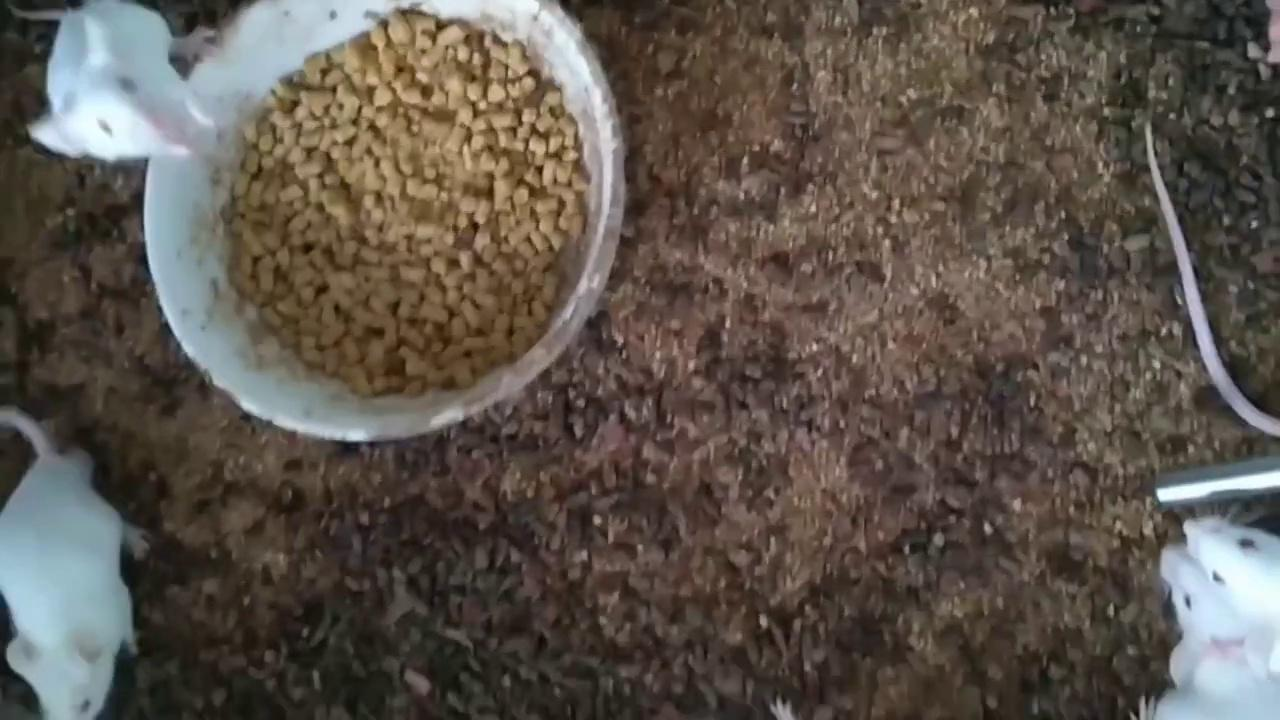rat: (0, 403, 155, 720), (0, 0, 224, 160), (1133, 543, 1280, 720), (1184, 514, 1280, 676)
